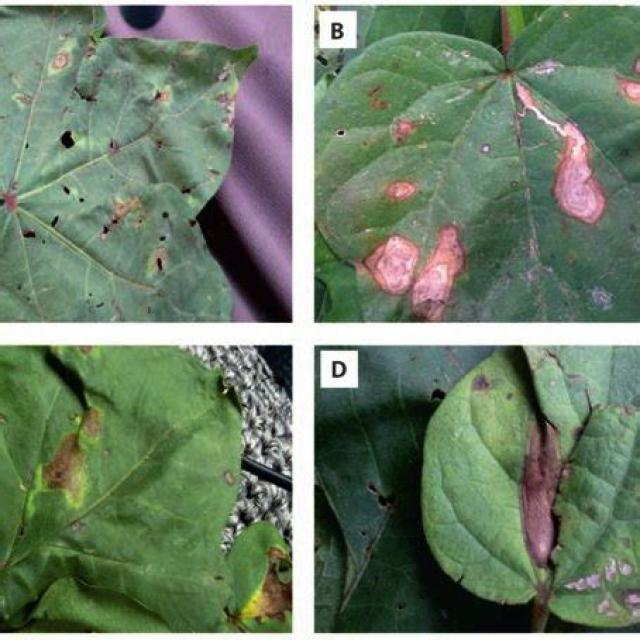blight: (376, 215, 469, 323), (519, 402, 575, 580), (47, 396, 102, 516)
